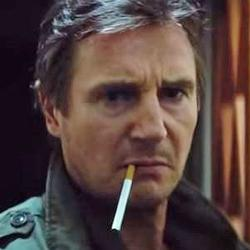smoking: (106, 158, 175, 236)
